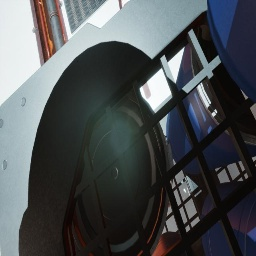NitrogenTank ,: (118, 0, 130, 10)
